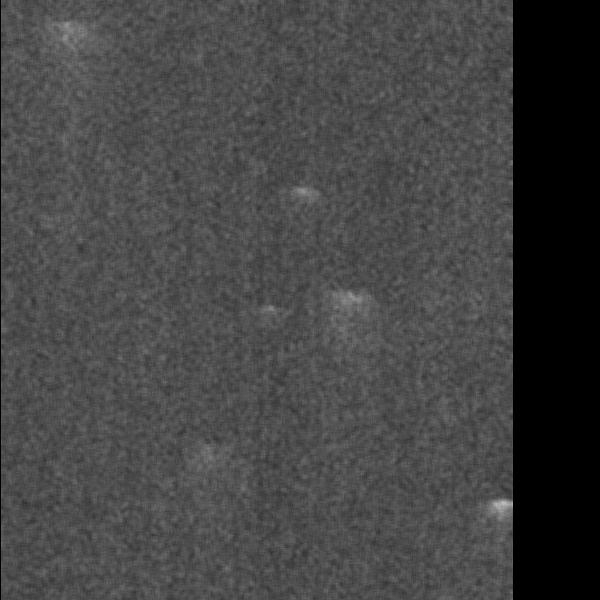spark: (71, 544, 133, 599), (70, 437, 119, 503), (423, 43, 489, 75), (457, 276, 486, 299), (480, 196, 494, 217)
